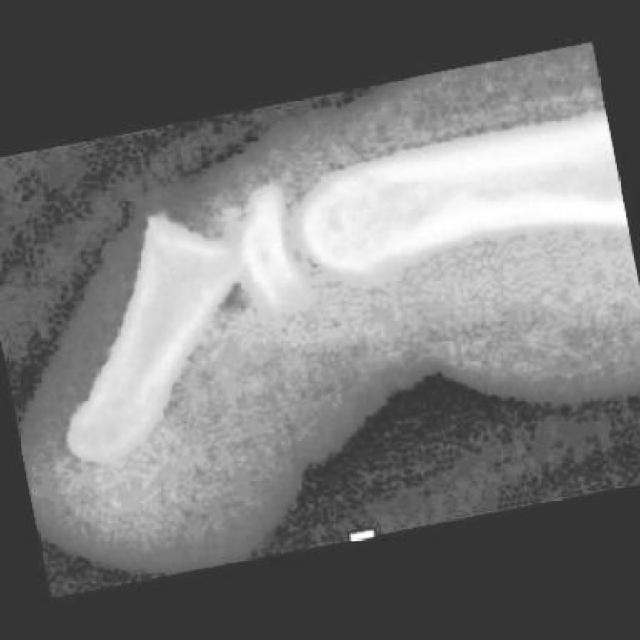Fracture: (89, 145, 322, 376)
